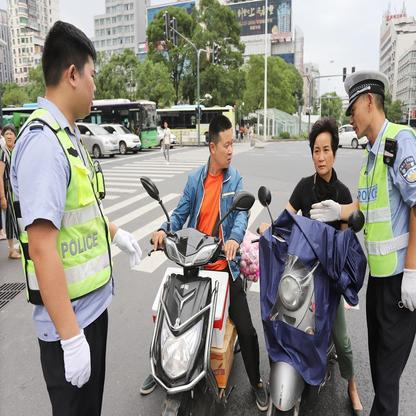target: (136, 112, 256, 411), (258, 116, 368, 413)
